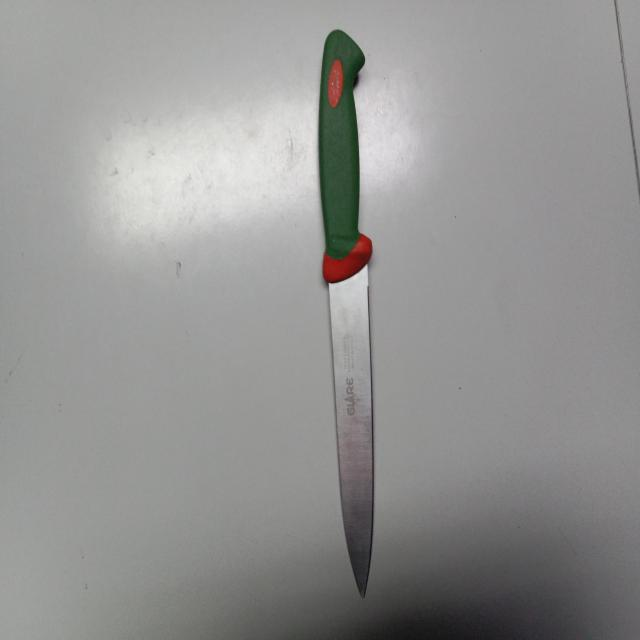Knife: (319, 28, 373, 598)
